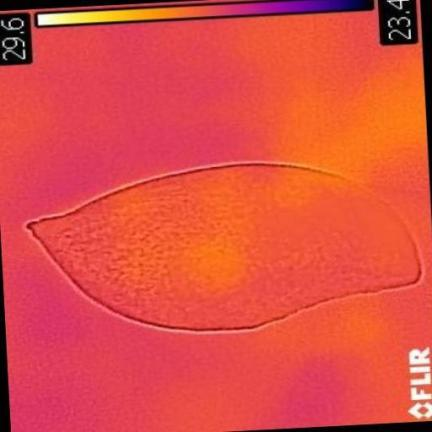mango: (0, 0, 432, 432), (31, 164, 421, 330)
